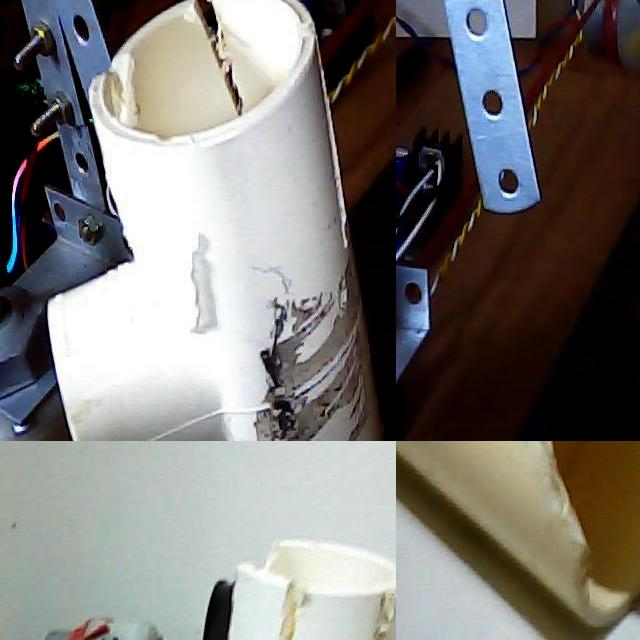Defective: (241, 237, 375, 441), (483, 441, 640, 551), (176, 0, 261, 143), (315, 34, 344, 286), (178, 219, 226, 354), (96, 63, 153, 135), (235, 542, 301, 593), (270, 570, 307, 640), (364, 585, 396, 640)
T Joint: (47, 0, 386, 441), (396, 441, 640, 630)
